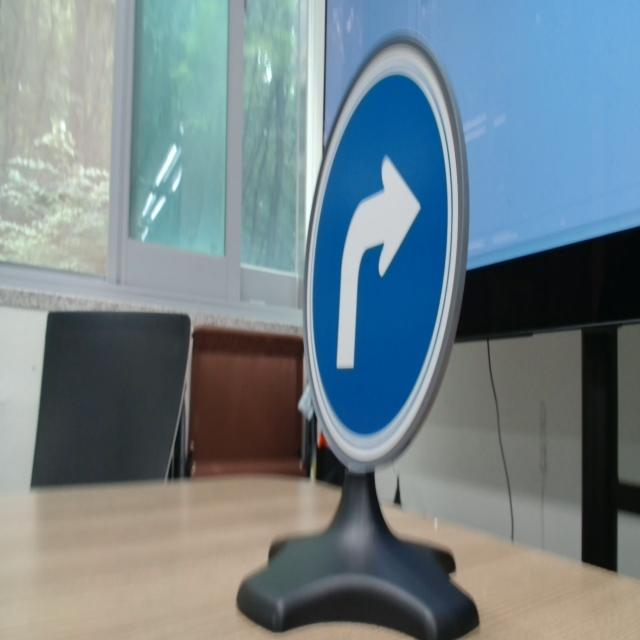right_dierection: (289, 9, 491, 515)
